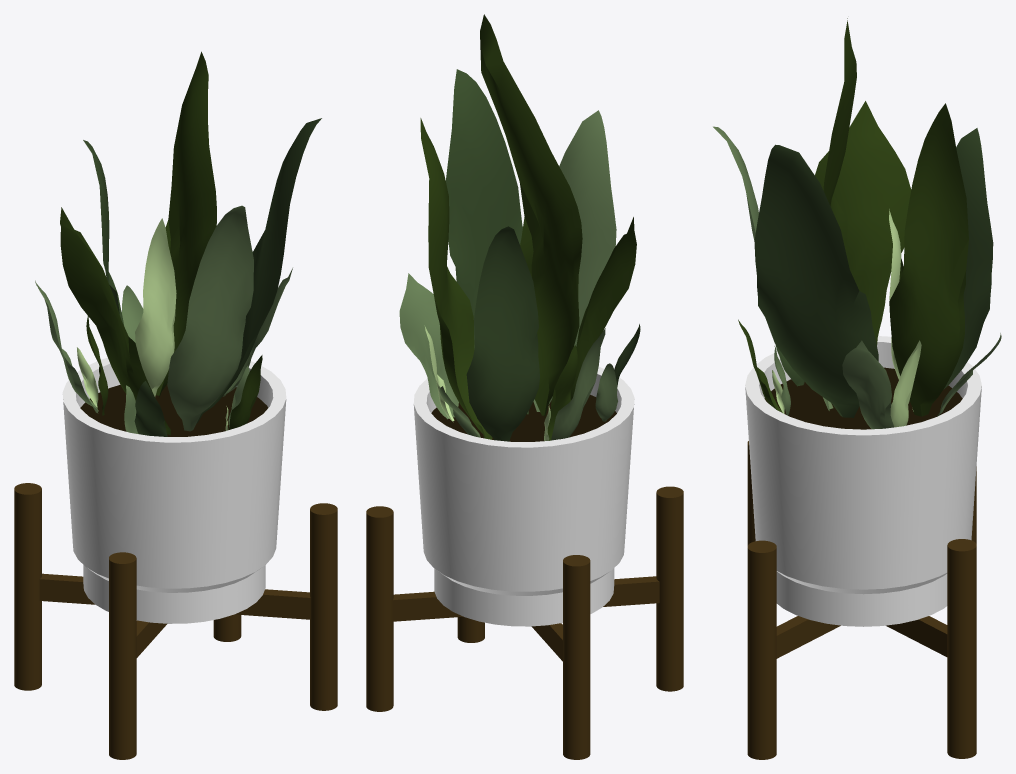
The model's file is snakePlant (1).fbx.
3 renders of one model, left to right at view 1: azimuth 30°, elevation 25°; view 2: azimuth 150°, elevation 25°; view 3: azimuth 270°, elevation 25°, orthographic. The views are drawn at different scales.
Visible parts, largest first — view 1: snakePlant; view 2: snakePlant; view 3: snakePlant.
Boxes of the visible parts, box(x1,y1,x2,y2) form: snakePlant: box(14, 51, 337, 759); snakePlant: box(366, 14, 683, 759); snakePlant: box(713, 18, 1001, 759).
Size of the model in its own units: 116 by 324 by 119.
